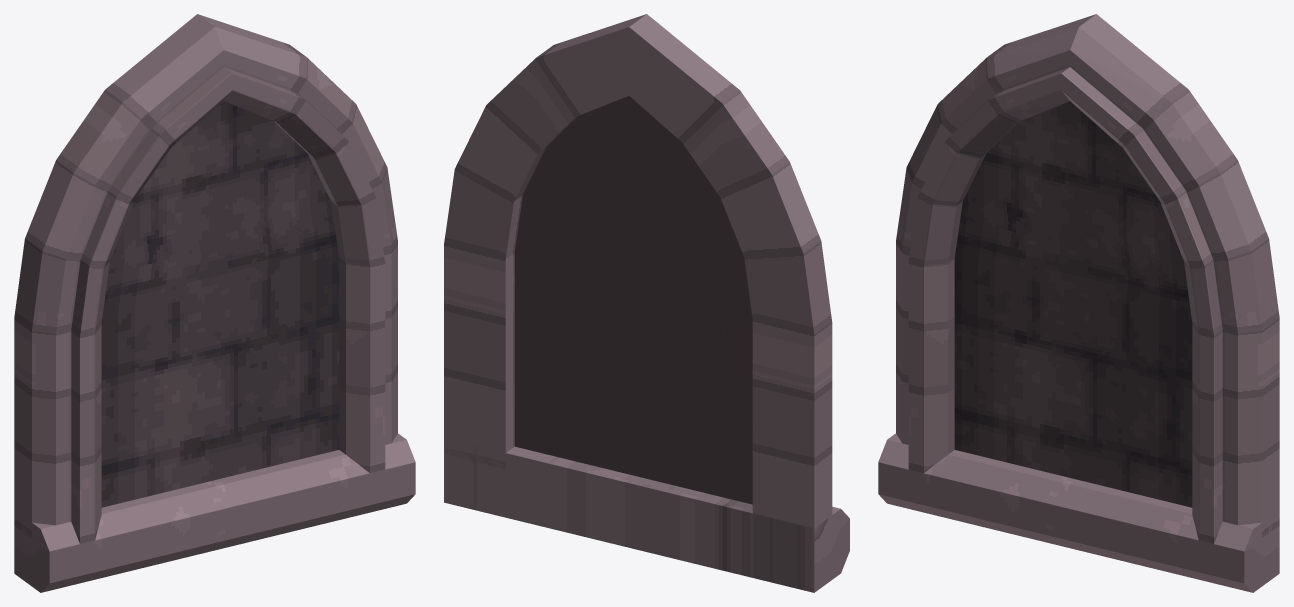
File: wall_niche_corridor_b.glb
The picture shows the model from 3 angles, left to right: view 1: azimuth 30°, elevation 25°; view 2: azimuth 150°, elevation 25°; view 3: azimuth 330°, elevation 25°; orthographic projection.
Parts seen in each view (by area): view 1: frame, back_plate, sill; view 2: back_plate, frame, sill; view 3: frame, back_plate, sill.
Part boxes in pixels (x1,y1,x2,y2): frame: (14, 14, 397, 543); back_plate: (101, 101, 339, 507); sill: (14, 433, 415, 592); back_plate: (514, 96, 752, 504); frame: (444, 14, 832, 528); sill: (444, 438, 849, 592); frame: (896, 14, 1279, 543); back_plate: (954, 101, 1192, 507); sill: (878, 433, 1279, 592).
Bounding box in the file's own units: 1.5 × 2.02 × 0.25.
Materials: 1 (1 with a texture image).
